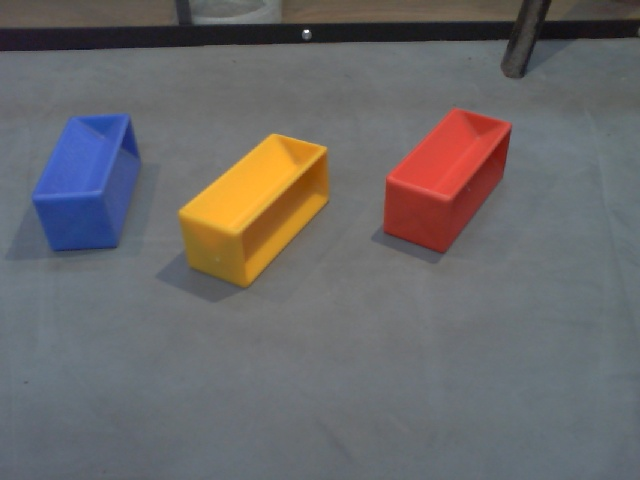BlueSample: (28, 108, 143, 260)
RedSample: (377, 104, 515, 256)
YellowSample: (174, 125, 332, 291)
